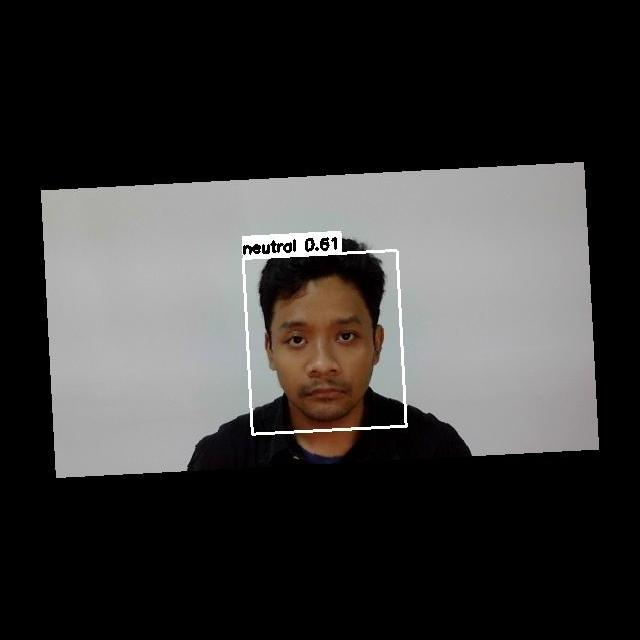Natural: (270, 307, 380, 408)
